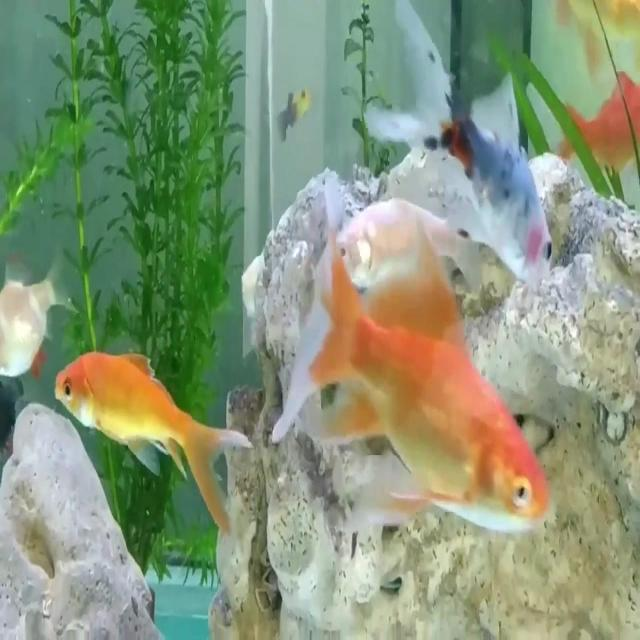GoldFish: (264, 160, 558, 580), (47, 333, 251, 559)
